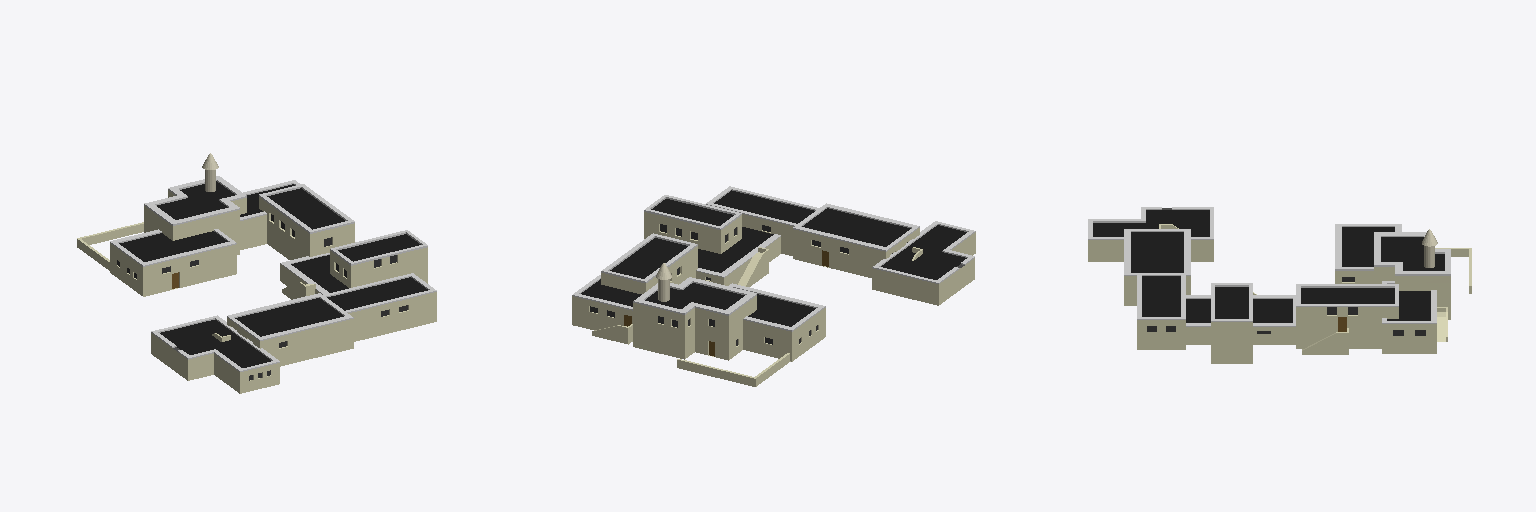
File: house3.obj
3 renders of one model, left to right at view 1: azimuth 30°, elevation 25°; view 2: azimuth 150°, elevation 25°; view 3: azimuth 270°, elevation 25°, orthographic.
Visible parts, largest first — view 1: unnamed_object1; view 2: unnamed_object1; view 3: unnamed_object1.
Boxes of the visible parts, x1=… form: unnamed_object1: x1=77, y1=153, x2=436, y2=393; unnamed_object1: x1=572, y1=186, x2=975, y2=386; unnamed_object1: x1=1088, y1=207, x2=1471, y2=363.
Bounding box in the file's own units: 31.97 × 9.23 × 38.59.